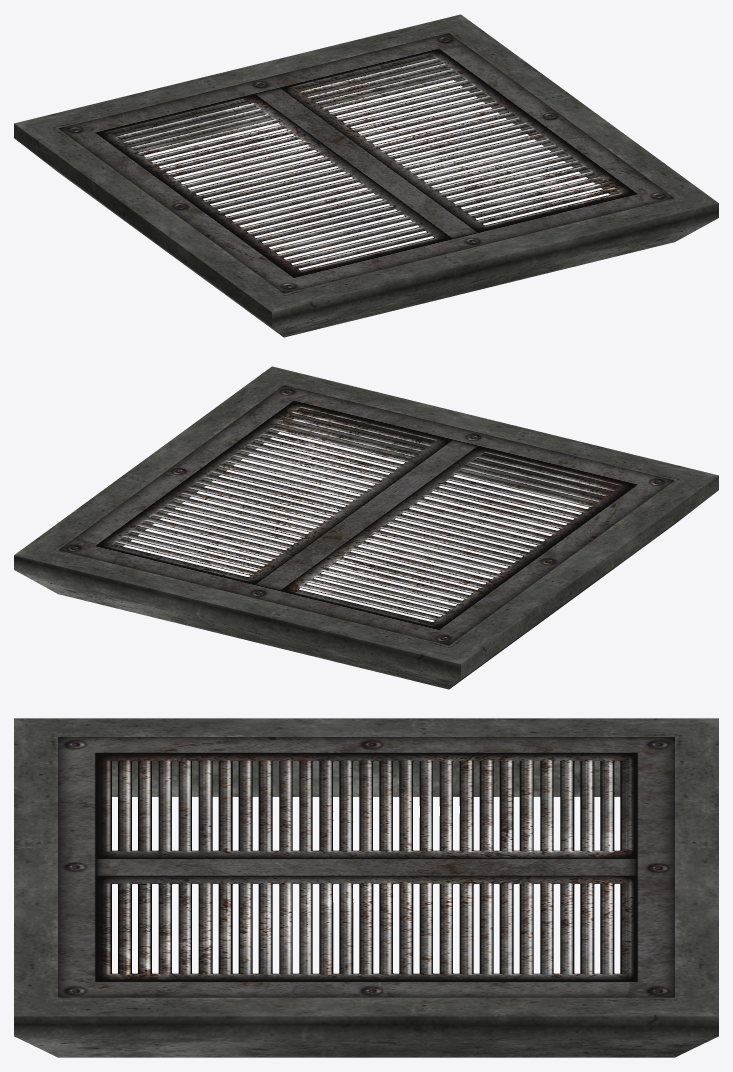
The model's file is catwalk_B_Corner.fbx.
The picture shows the model from 3 angles, top to bottom: view 1: azimuth 30°, elevation 25°; view 2: azimuth 150°, elevation 25°; view 3: azimuth 270°, elevation 25°; orthographic projection. The views are drawn at different scales.
Visible parts, largest first — view 1: polySurface487, pCube250; view 2: polySurface487, pCube250; view 3: polySurface487, pCube250.
Boxes of the visible parts, left/top/right/bottom form: polySurface487: left=58, top=33, right=674, bottom=293; pCube250: left=14, top=14, right=718, bottom=337; polySurface487: left=58, top=385, right=674, bottom=645; pCube250: left=14, top=366, right=718, bottom=689; polySurface487: left=58, top=737, right=674, bottom=997; pCube250: left=14, top=718, right=718, bottom=1057.
Bounding box in the file's own units: 800 × 75 × 800.
